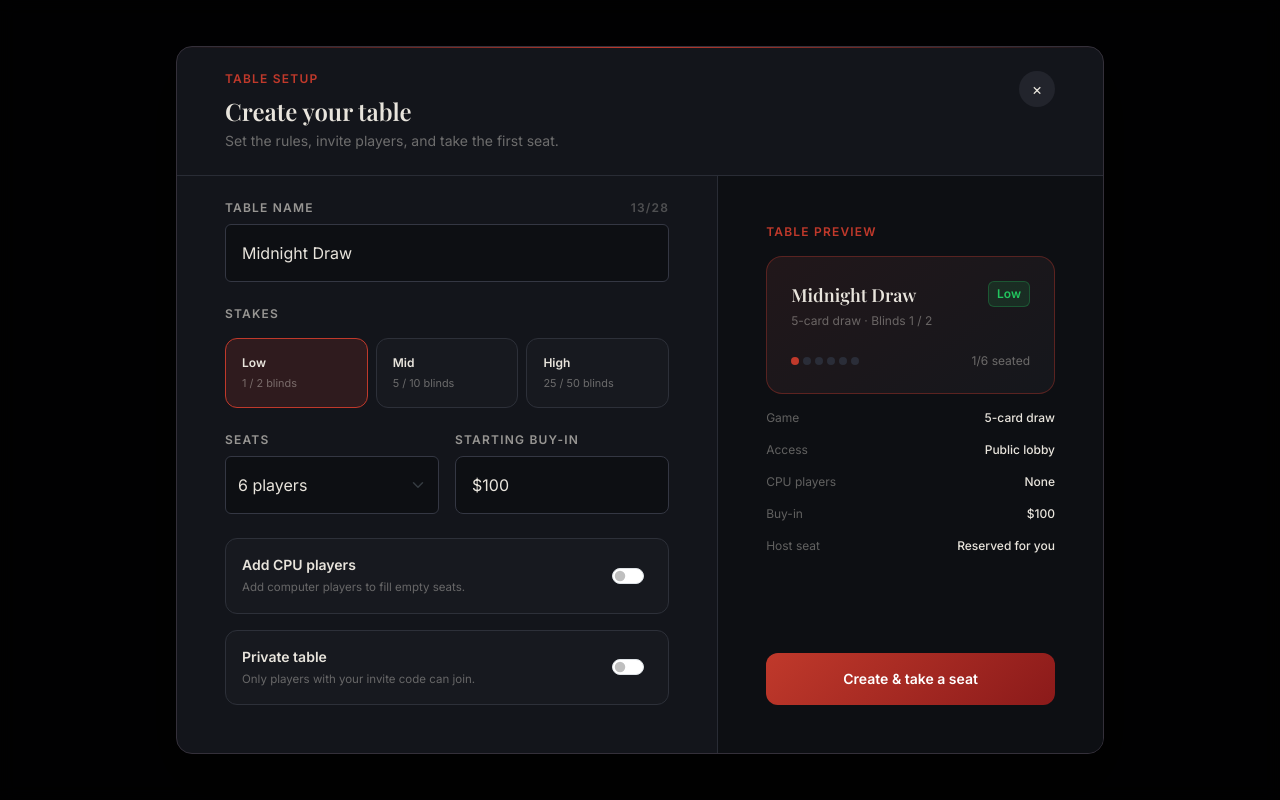
Scenario: TableCreation (create mode) › private toggle changes the access line in the preview
Expected: the text "Public lobby" is shown, [985,442,1055,458]
Click the switch named "make table private" at [628, 667], box [612,659,644,675]
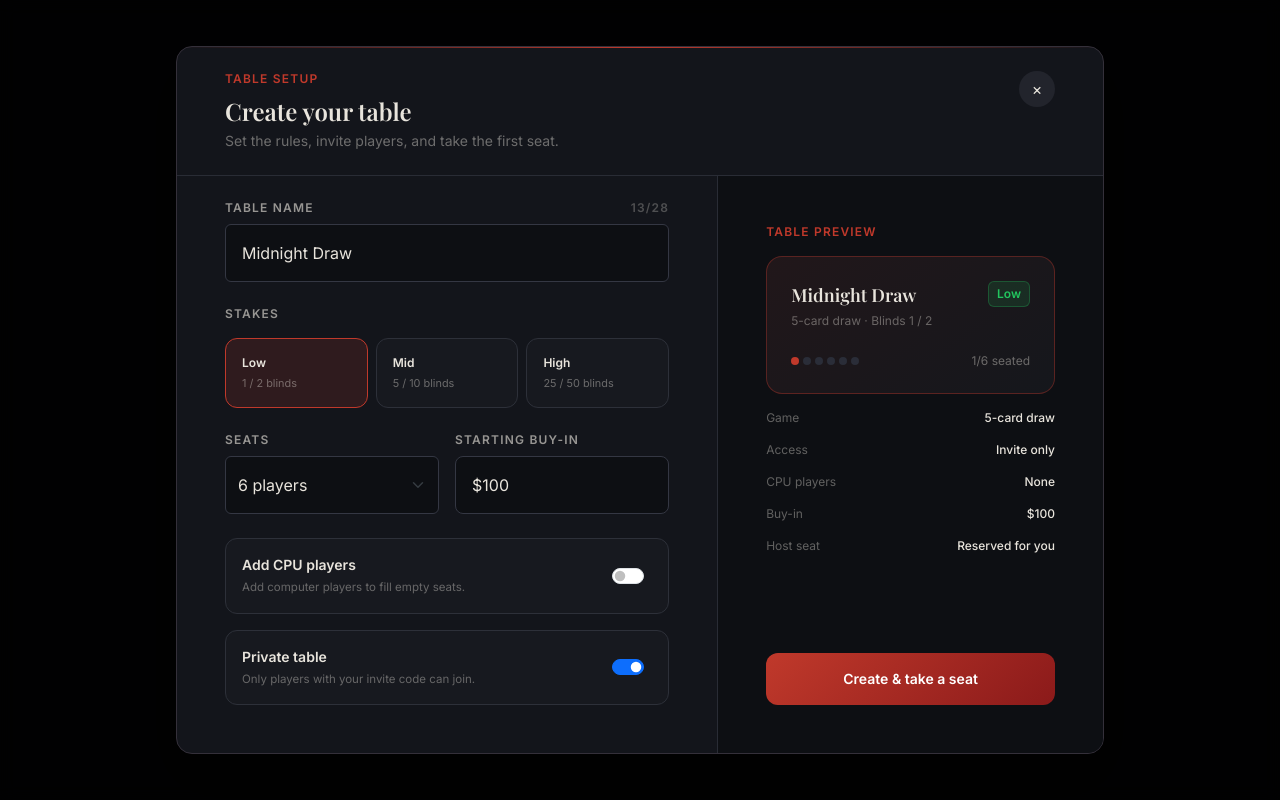
Expected: the text "Invite only" is shown, [996,442,1055,458]
Expected: the text "Public lobby" is gone
